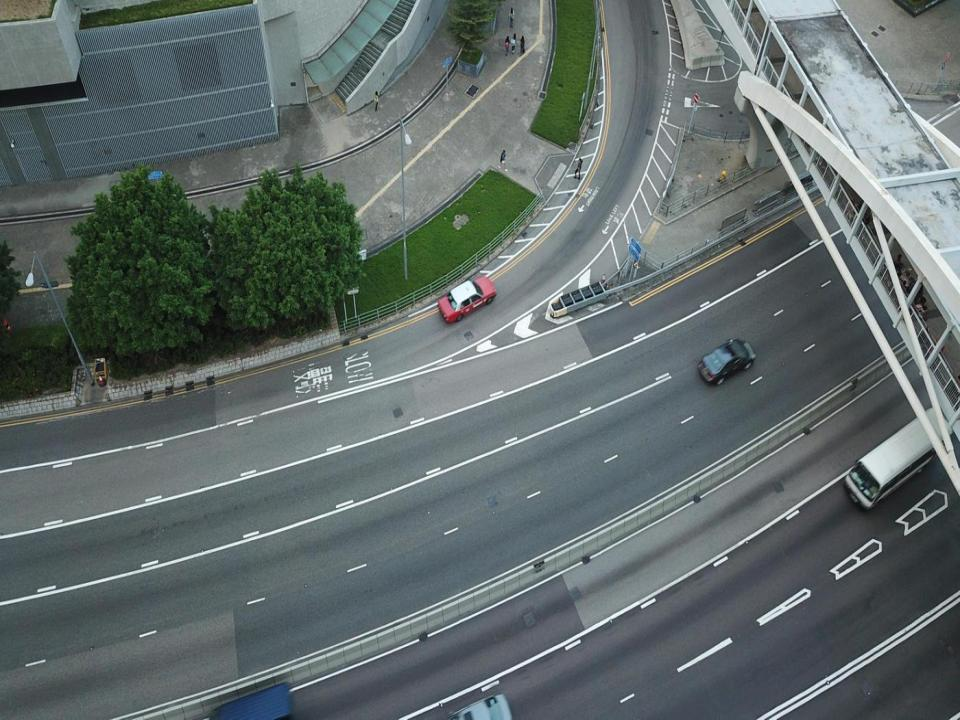bus: (846, 407, 959, 509), (207, 682, 295, 719)
car: (698, 338, 755, 388), (437, 277, 496, 322), (442, 694, 514, 719)
